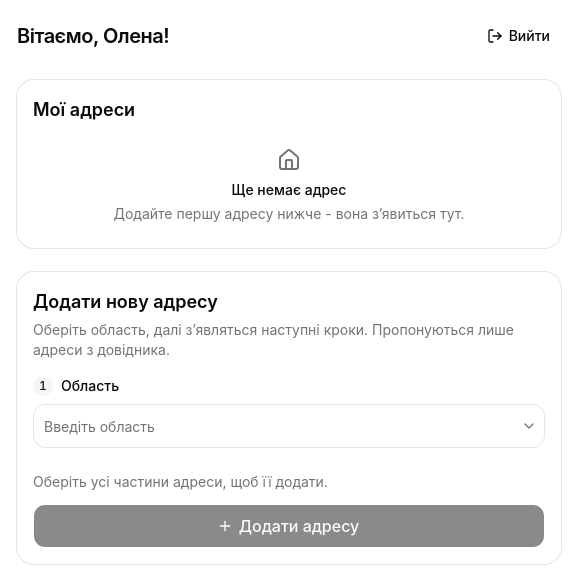
Test: ClientApp › signs out
Click the button "Вийти" at (519, 36), box [478, 16, 561, 56]
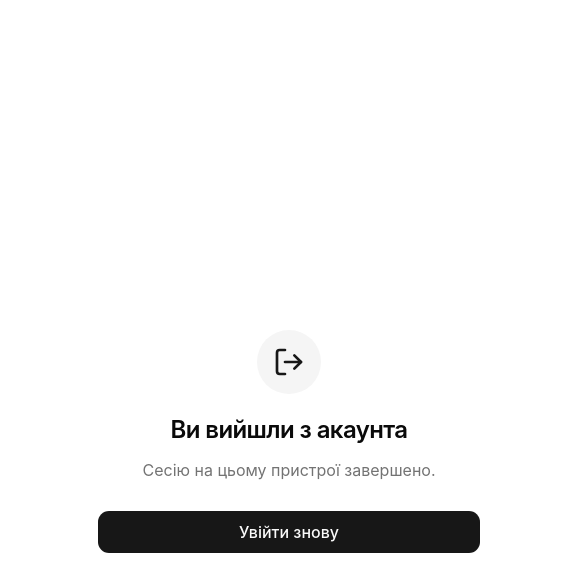
expect the heading "Ви вийшли з акаунта" is shown: met, box [170, 414, 408, 446]
